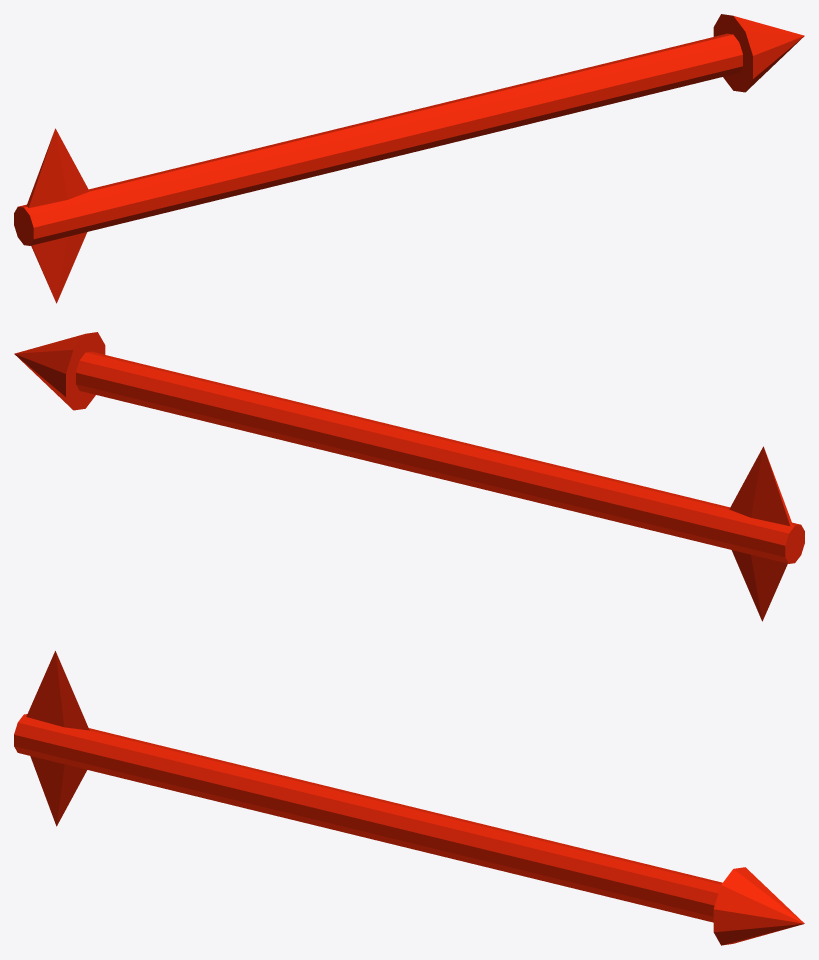
File: arrow.obj
3 renders of one model, top to bottom at view 1: azimuth 30°, elevation 25°; view 2: azimuth 150°, elevation 25°; view 3: azimuth 330°, elevation 25°, orthographic.
Parts seen in each view (by area): view 1: group11 group10 group9 group8 group7 group6 group5 group4 group3, pCone1 group11 group10 group9 group8 group7 group6 group5 group4; view 2: group11 group10 group9 group8 group7 group6 group5 group4 group3, pCone1 group11 group10 group9 group8 group7 group6 group5 group4; view 3: group11 group10 group9 group8 group7 group6 group5 group4 group3, pCone1 group11 group10 group9 group8 group7 group6 group5 group4.
Part boxes in pixels (<box>): group11 group10 group9 group8 group7 group6 group5 group4 group3: <box>14,33,742,303</box>; pCone1 group11 group10 group9 group8 group7 group6 group5 group4: <box>713,14,804,92</box>; group11 group10 group9 group8 group7 group6 group5 group4 group3: <box>76,351,804,621</box>; pCone1 group11 group10 group9 group8 group7 group6 group5 group4: <box>14,332,105,410</box>; group11 group10 group9 group8 group7 group6 group5 group4 group3: <box>14,651,722,922</box>; pCone1 group11 group10 group9 group8 group7 group6 group5 group4: <box>713,867,804,945</box>.
Bounding box in the file's own units: 2.18 × 0.4698 × 0.1902.
Materials: 1 (1 with a texture image).
